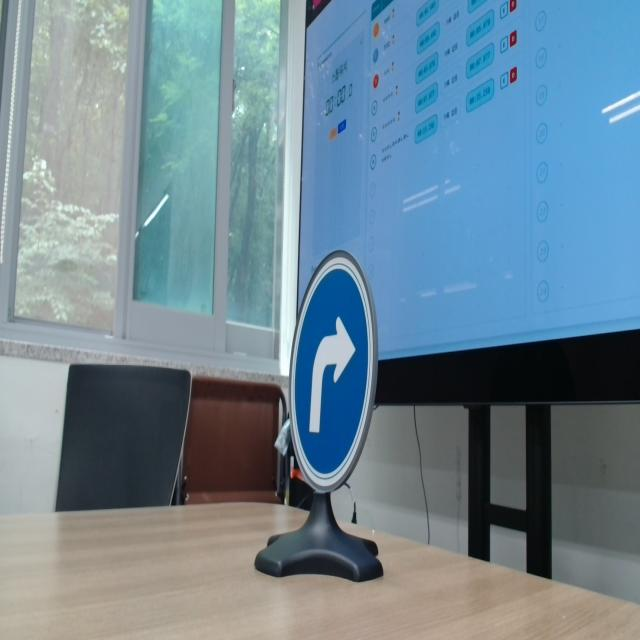right_dierection: (284, 245, 381, 490)
